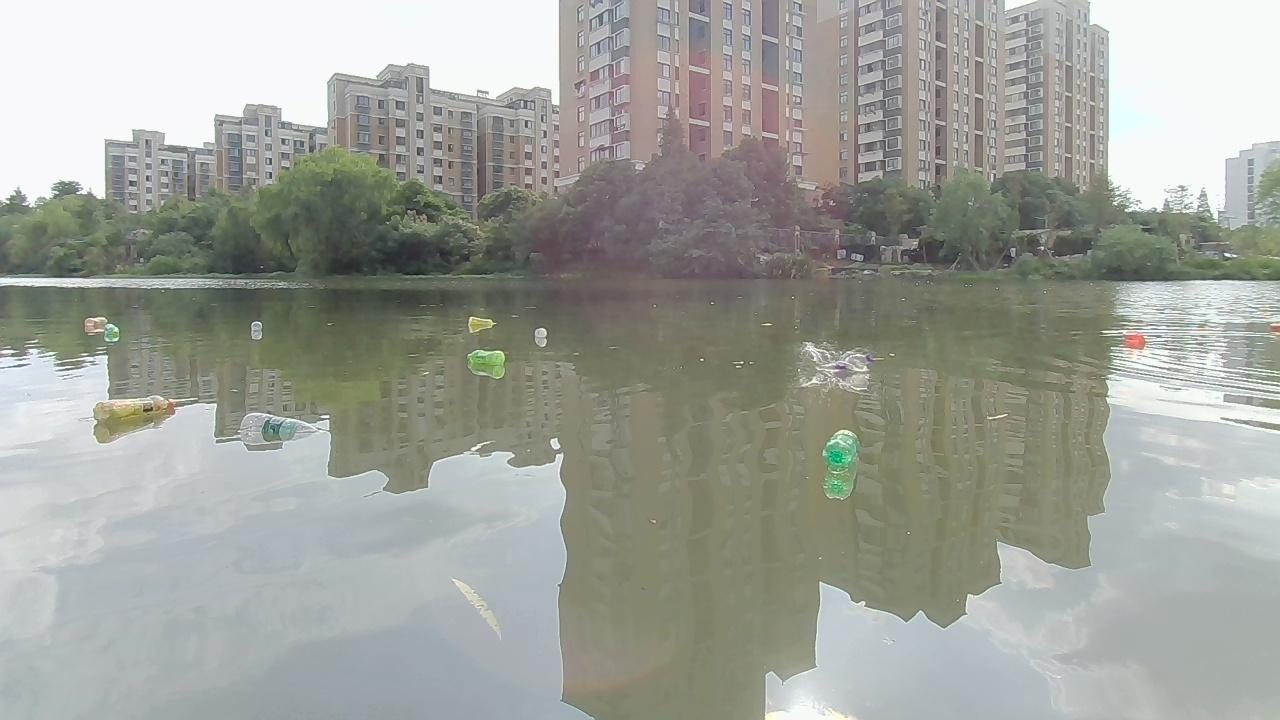bottle: (237, 406, 328, 450), (91, 395, 183, 427), (801, 342, 865, 378), (820, 430, 857, 473), (466, 346, 506, 368), (465, 310, 496, 333), (1121, 327, 1146, 347), (99, 325, 120, 340), (86, 314, 107, 329), (532, 327, 546, 342), (248, 320, 260, 337)
